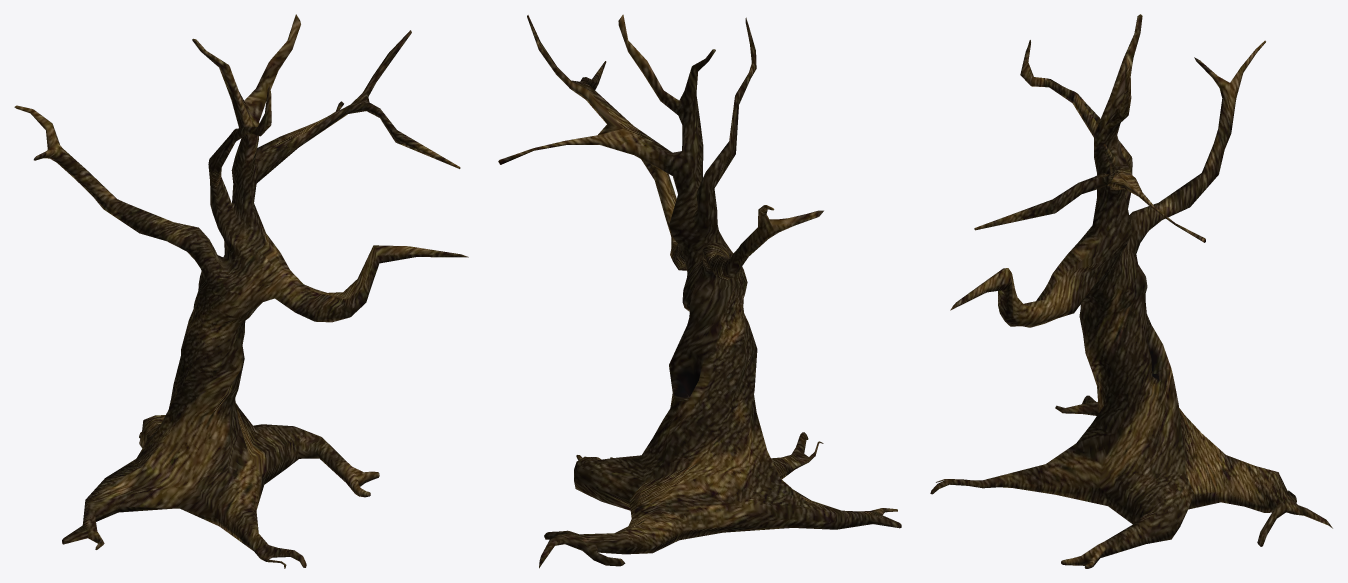
Rendered from arvore_morta.gltf.
3 views of the same model, side by side, from view 1: azimuth 30°, elevation 25°; view 2: azimuth 150°, elevation 25°; view 3: azimuth 270°, elevation 25° (orthographic). The views are drawn at different scales.
Parts seen in each view (by area): view 1: arvore_morta; view 2: arvore_morta; view 3: arvore_morta.
Part boxes in pixels (box(x1,y1,x2,y2)): arvore_morta: box(14, 14, 468, 568); arvore_morta: box(498, 14, 901, 568); arvore_morta: box(930, 14, 1332, 568).
Size of the model in its own units: 5.94 by 7.5 by 5.6.
1 material, 1 textured.
